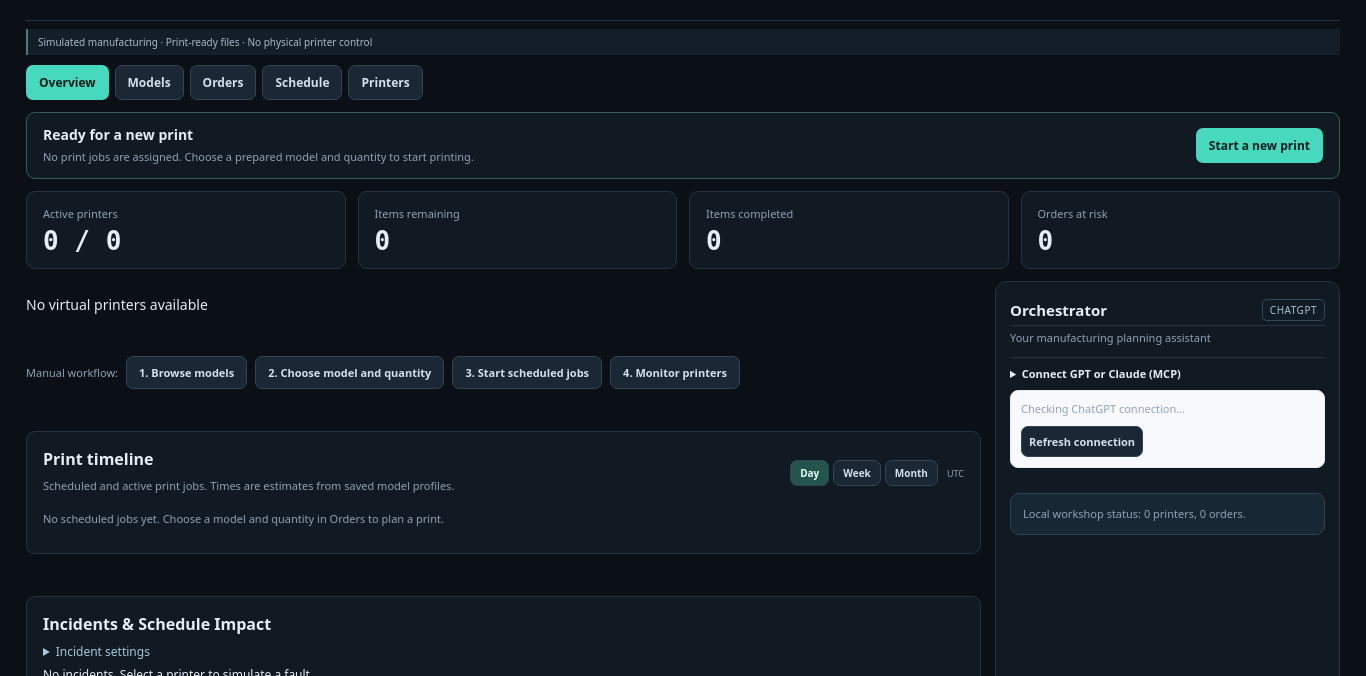
Test: reset ignores a pre-reset refresh response and shows the replacement scenario
This screenshot has width=1366, height=676.
Later steps or results of the test are not shown.
Click the tab "Printers" at (386, 82), box [348,65,423,100]
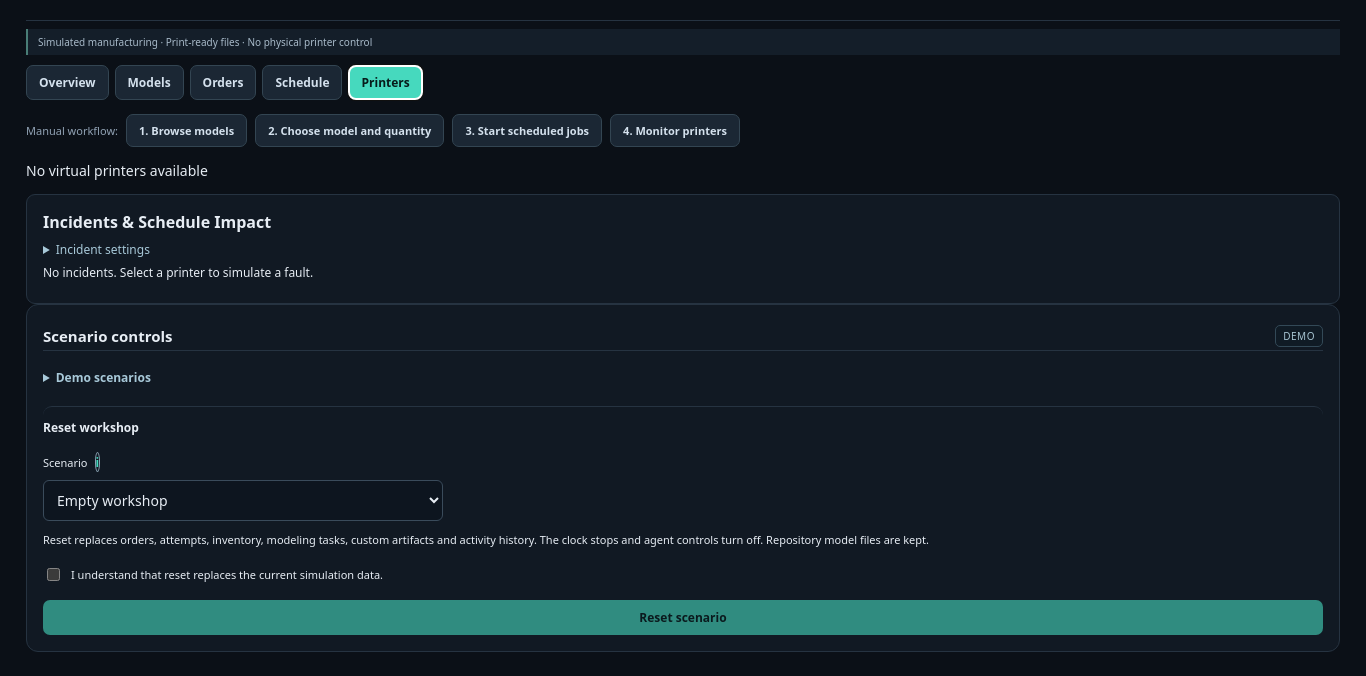
Click the checkbox labelled "I understand" at (54, 574), box [47,568,60,581]
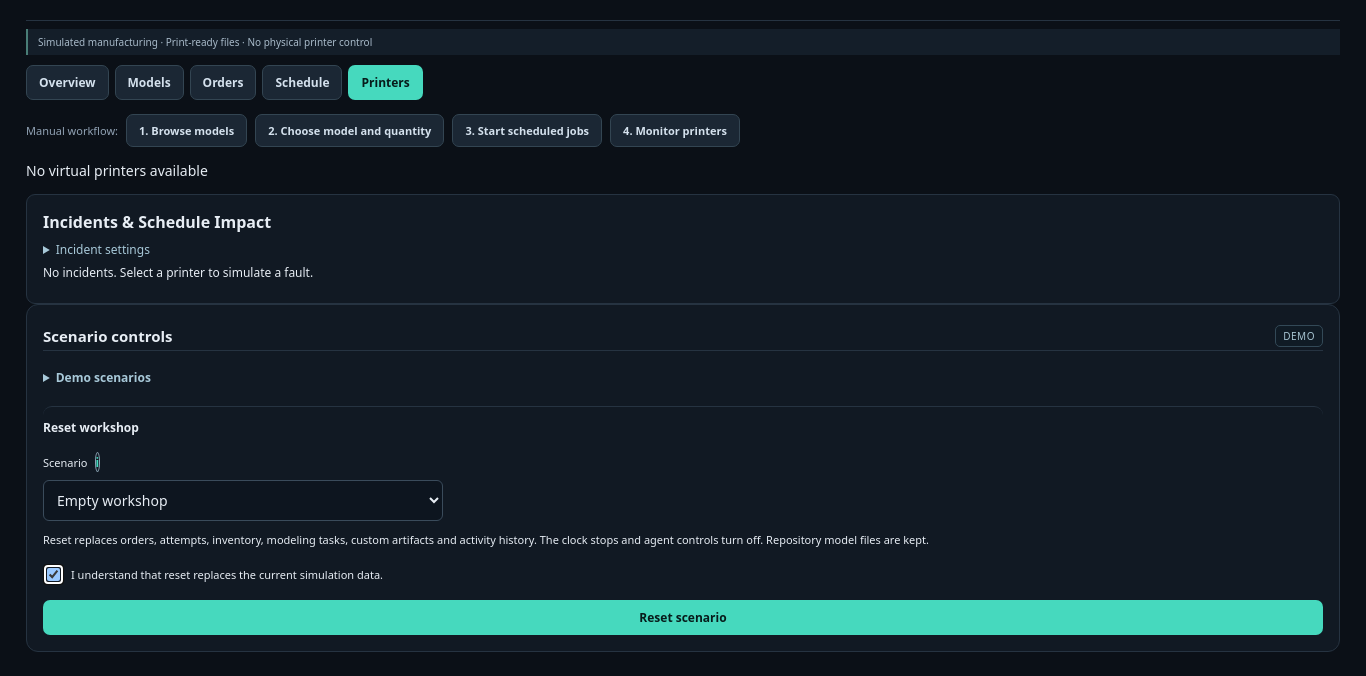
Click the button "Reset scenario" at (683, 617), box [43,600,1323,635]
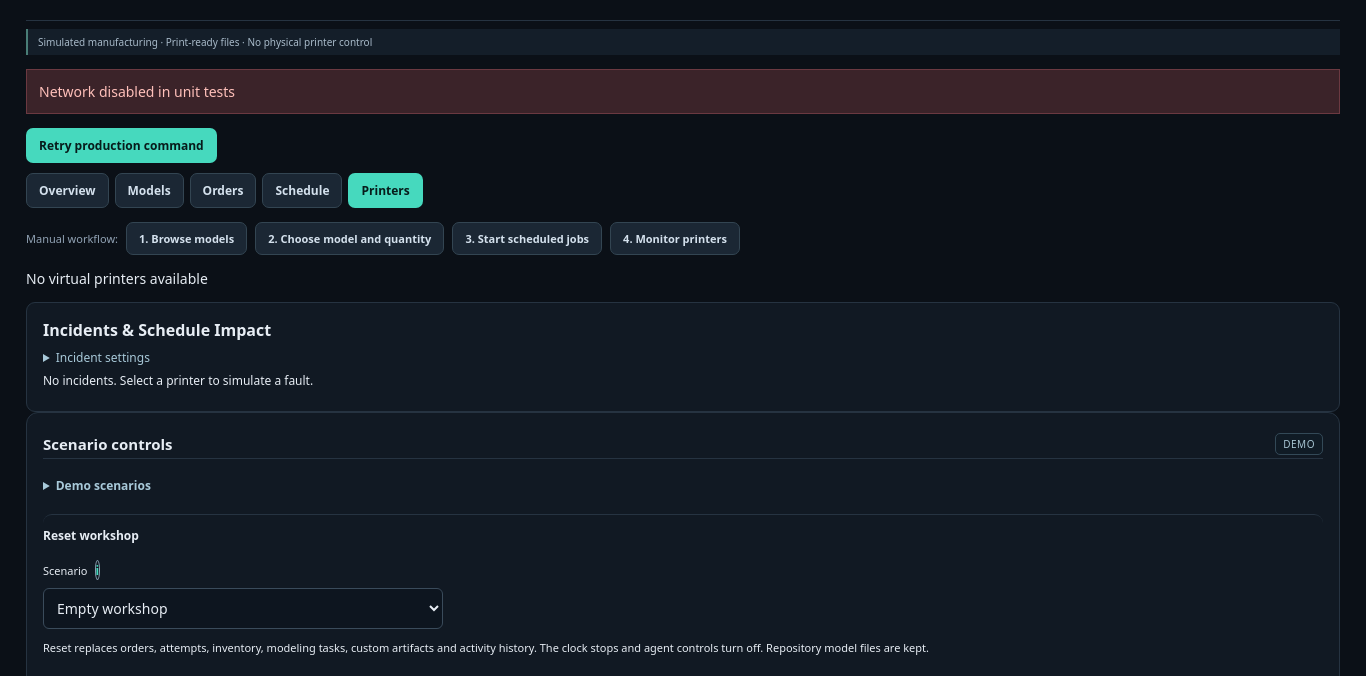
Click the tab "Orders" at (223, 190), box [190,173,256,208]
(page scrolled)
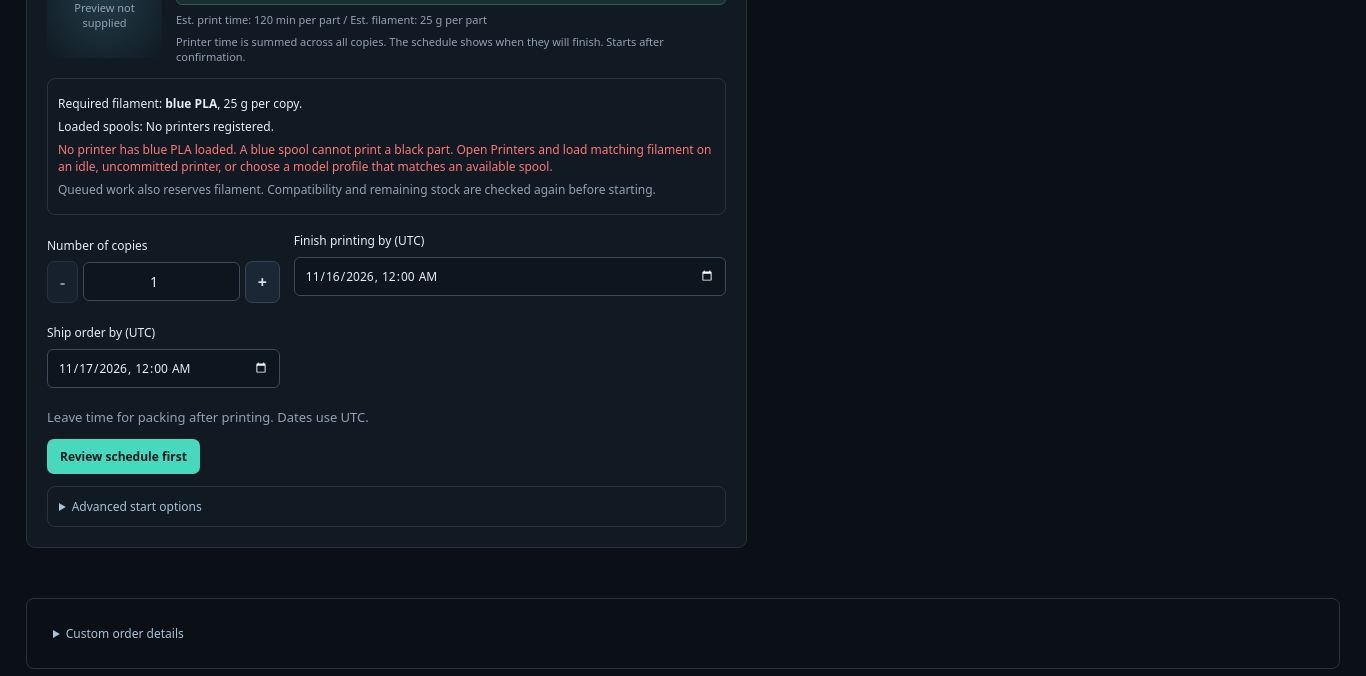
Click the heading "Custom order details" at (125, 633), box [66,624,184,642]
(page scrolled)
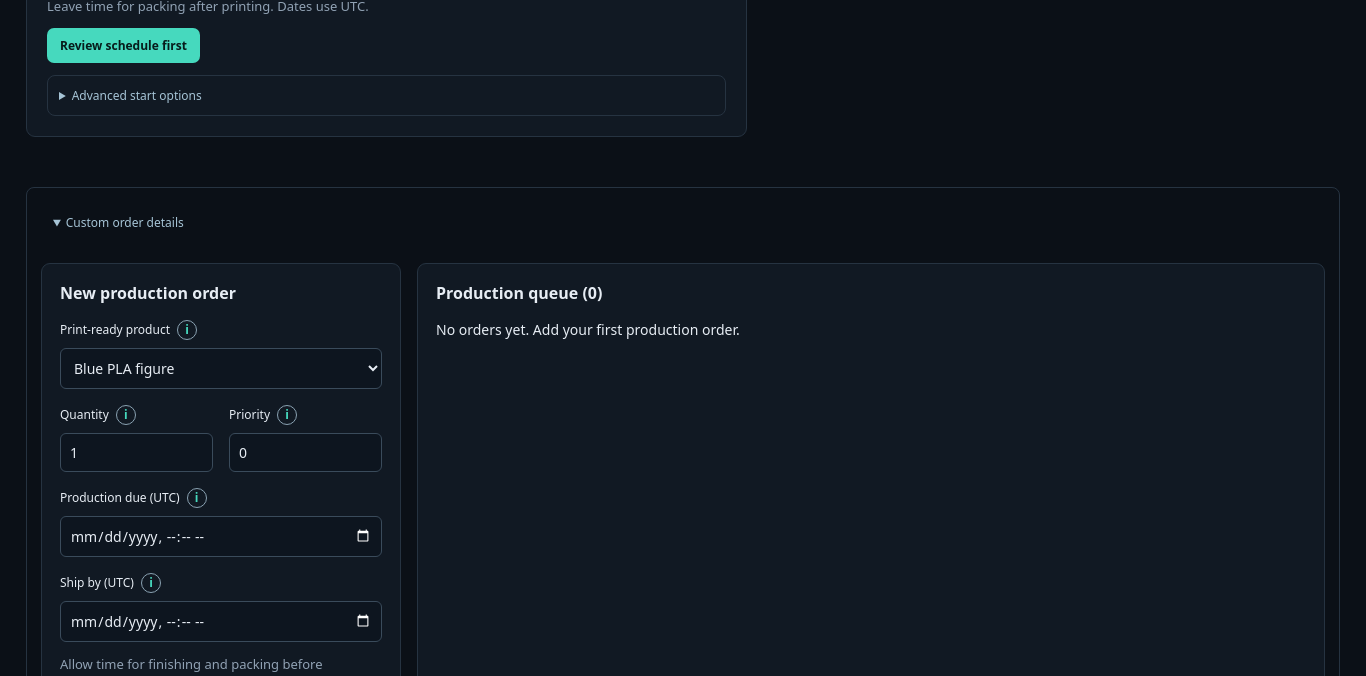
Expected: the text "No orders yet. Add your first production order." is shown, [436,320,740,338]
